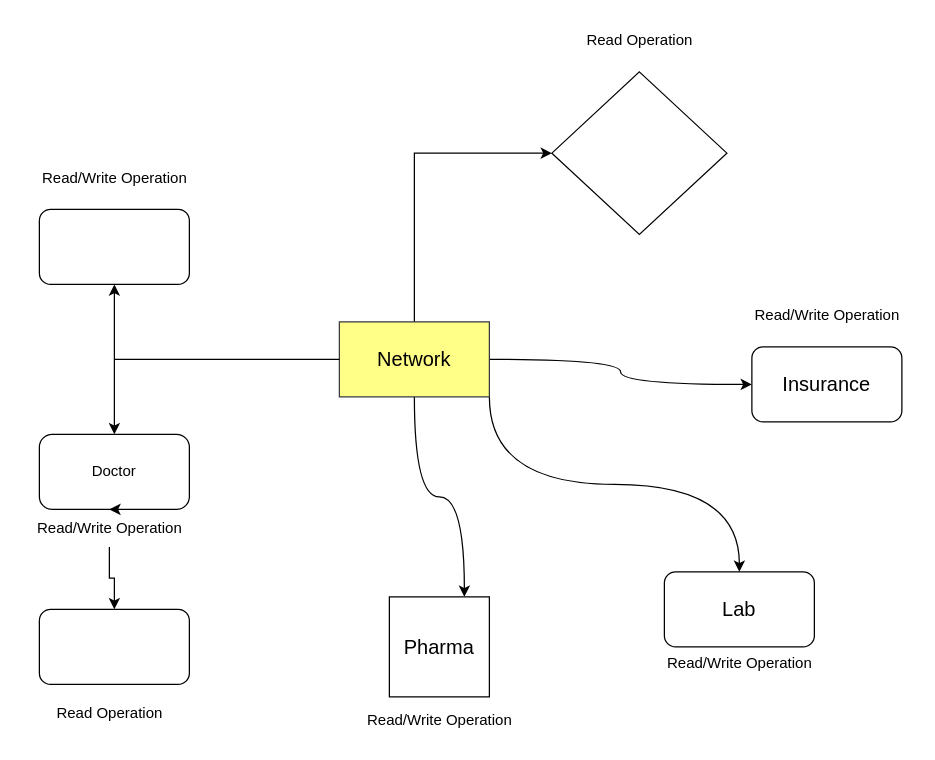
Some shapes in this 935 by 760 pixel diagram are drawn without their labels. Each missing label, with the box of its shape:
Hospital: (38, 208, 189, 284)
Patient: (38, 608, 189, 684)
Researchers: (551, 71, 727, 234)
